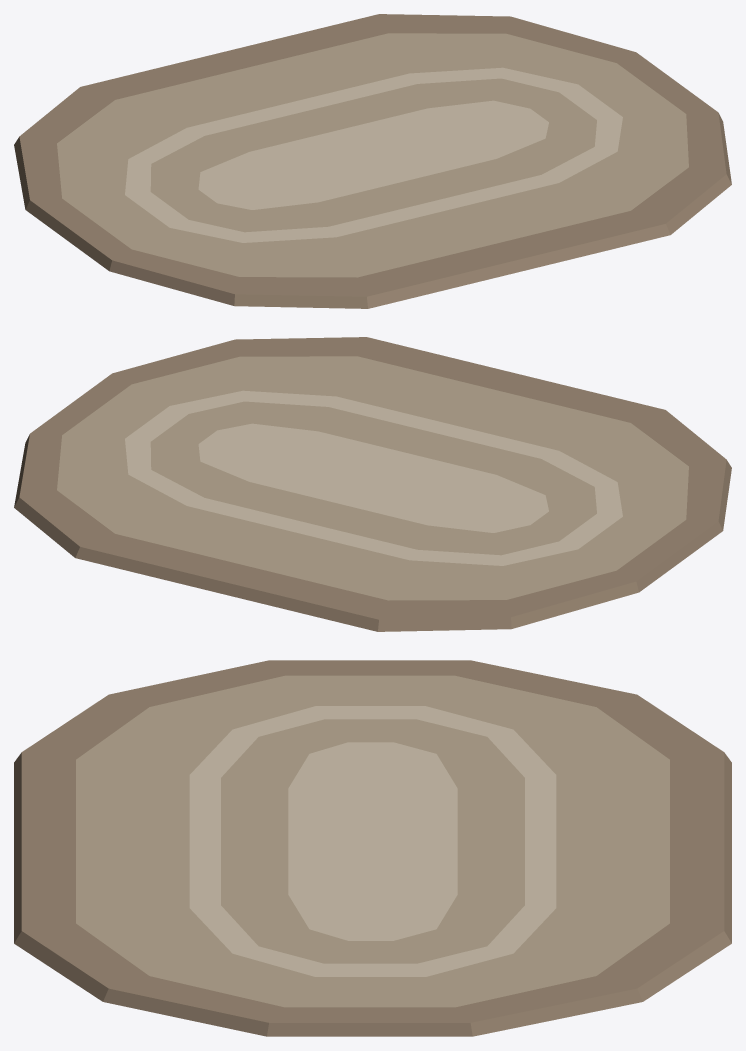
Rendered from Rug2.fbx.
3 views of the same model, one above another, from view 1: azimuth 30°, elevation 25°; view 2: azimuth 150°, elevation 25°; view 3: azimuth 270°, elevation 25° (orthographic). The views are drawn at different scales.
Visible parts, largest first — view 1: Rug2; view 2: Rug2; view 3: Rug2.
Boxes of the visible parts, left/top/right/bottom form: Rug2: left=14, top=14, right=731, bottom=308; Rug2: left=14, top=337, right=731, bottom=631; Rug2: left=14, top=660, right=731, bottom=1036.
Bounding box in the file's own units: 213 × 3.14 × 176.
1 material, 1 textured.
